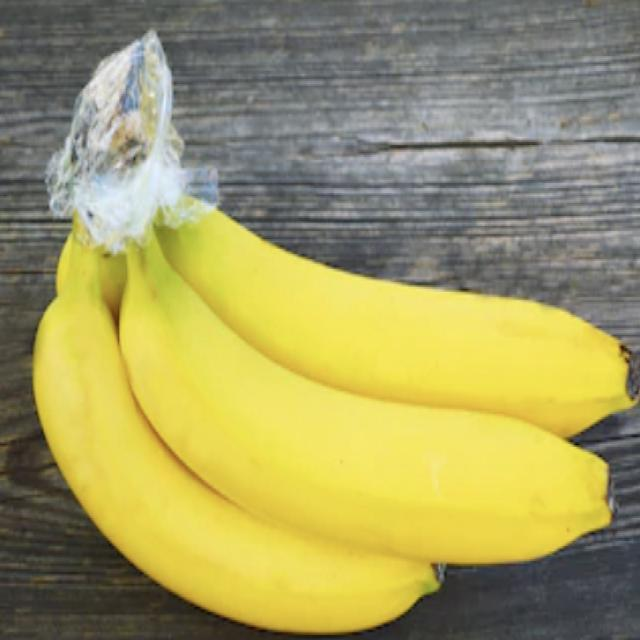Banana: (30, 28, 639, 637)
